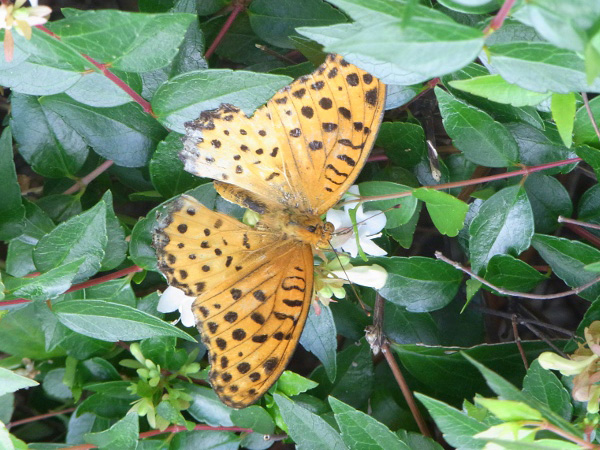Argyreus hyperbius: (151, 49, 411, 411)
butterfly: (149, 47, 409, 409)
